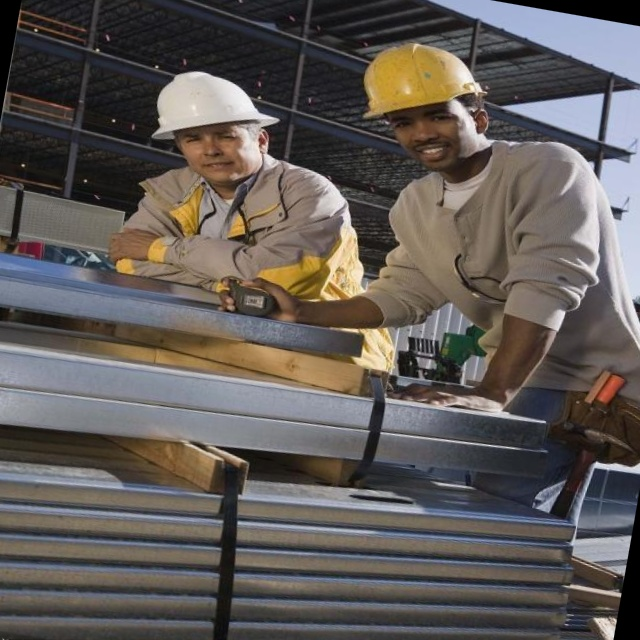Con_Casco: (353, 33, 512, 166), (152, 66, 292, 183)
